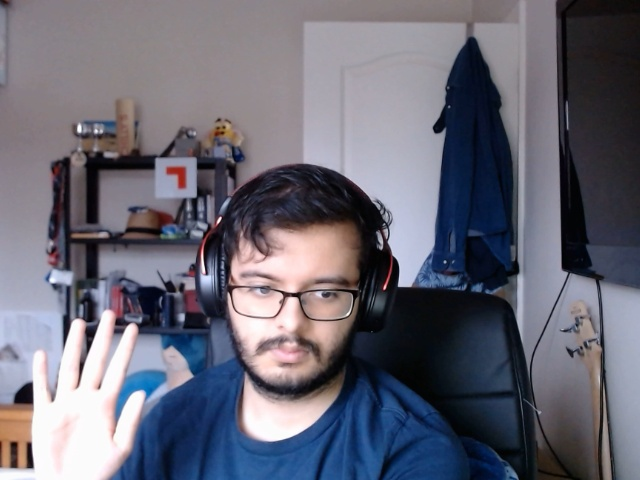Hello: (18, 307, 152, 480)
